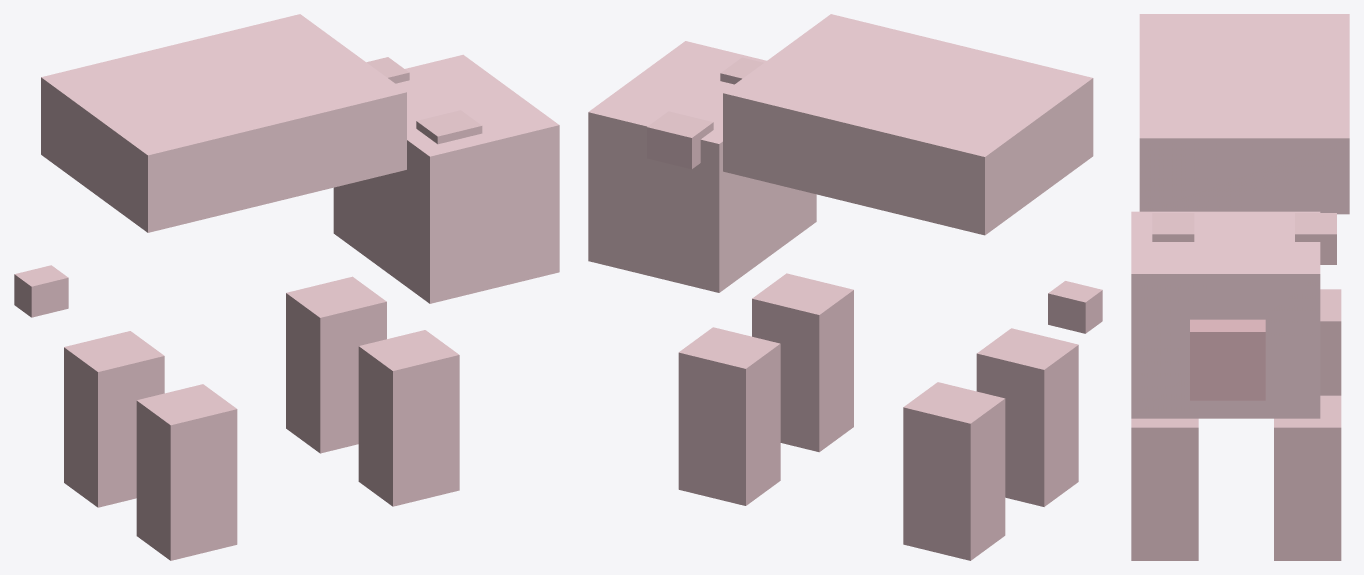
Rendered from pig.glb.
The picture shows the model from 3 angles, left to right: view 1: azimuth 30°, elevation 25°; view 2: azimuth 150°, elevation 25°; view 3: azimuth 270°, elevation 25°; orthographic projection. The views are drawn at different scales.
Parts seen in each view (by area): view 1: pig_root; view 2: pig_root; view 3: pig_root.
Part boxes in pixels (x1=…): pig_root: x1=14, y1=14, x2=559, y2=560; pig_root: x1=588, y1=14, x2=1102, y2=560; pig_root: x1=1131, y1=14, x2=1349, y2=560.
Bounding box in the file's own units: 1.02 × 0.8 × 0.3962.
